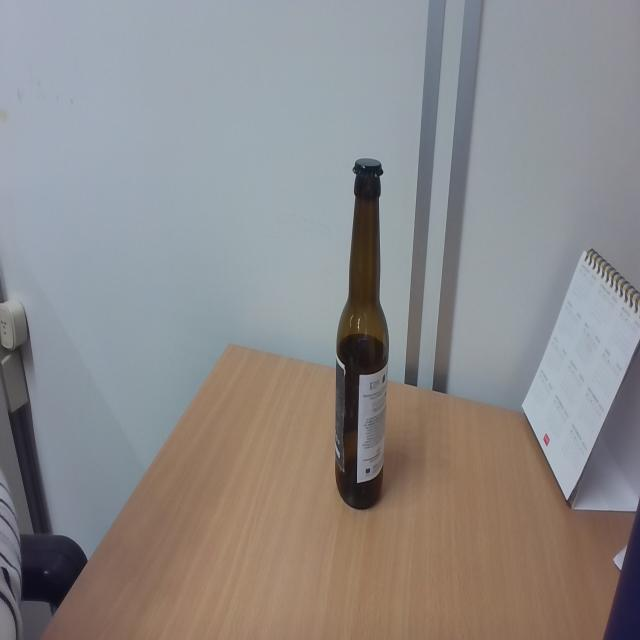Bottle: (337, 158, 390, 510)
Cap: (348, 156, 386, 182)
Label: (337, 364, 388, 475)
